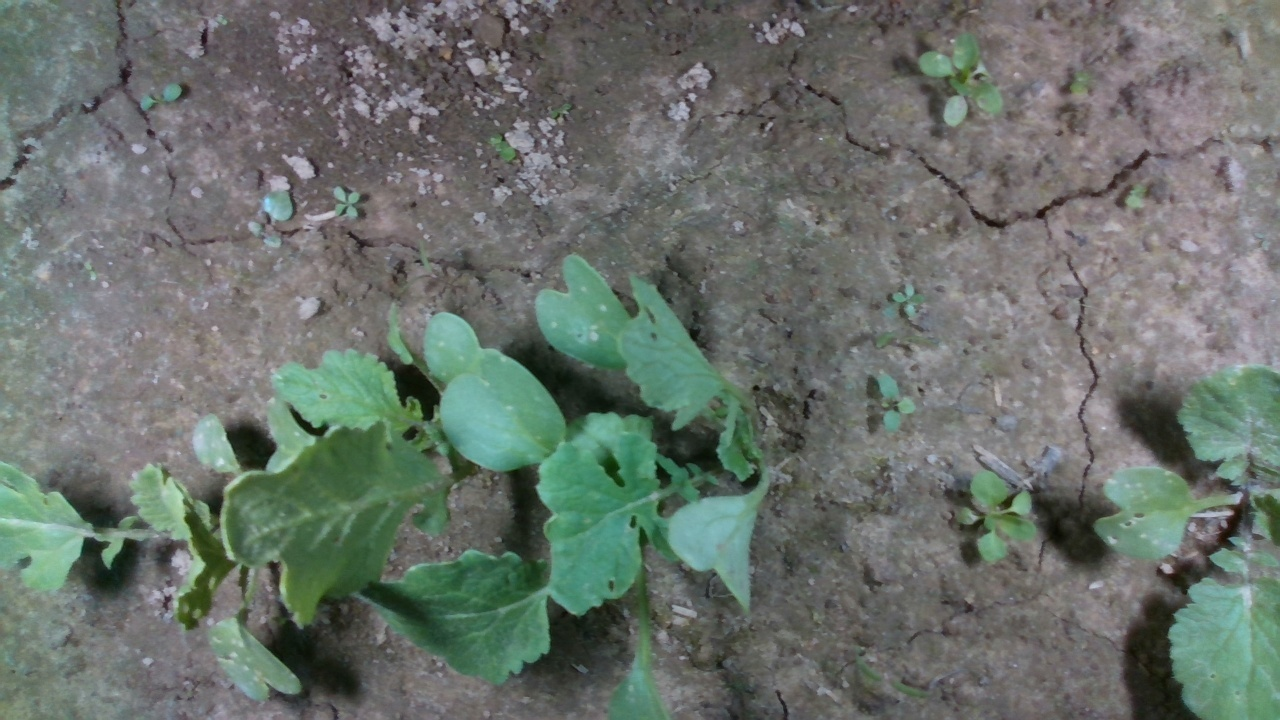weed: (870, 364, 919, 429), (323, 182, 372, 222), (1067, 61, 1115, 100), (138, 82, 184, 110), (889, 277, 920, 318), (1122, 178, 1150, 217)
